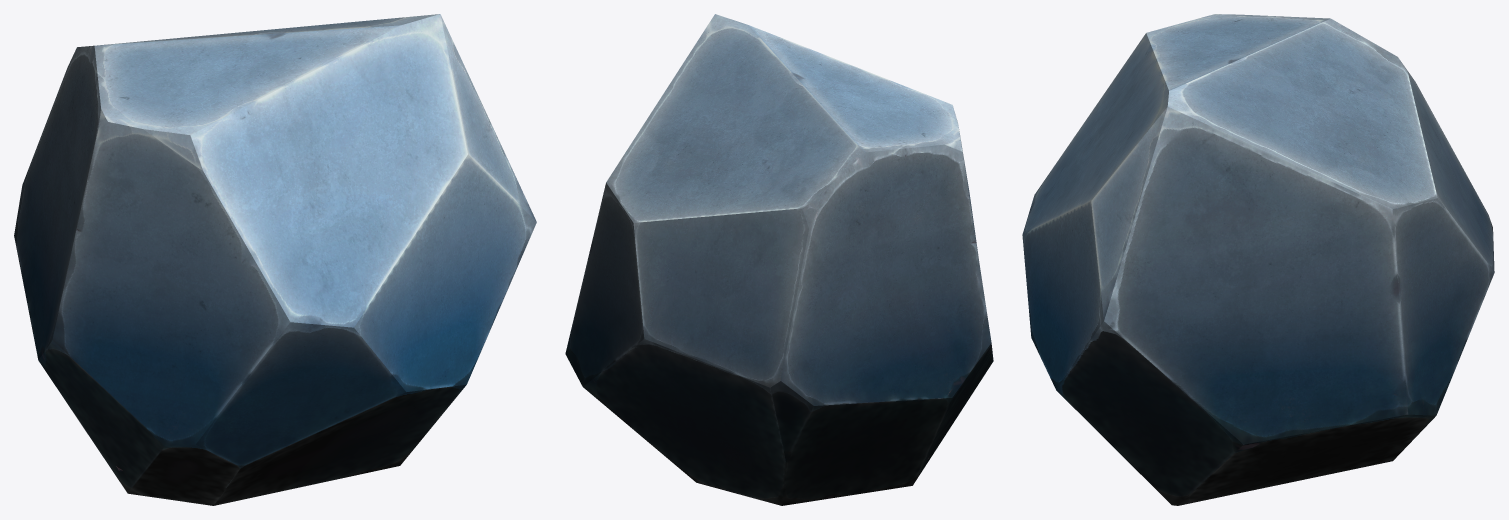
The model's file is berg5.glb.
3 renders of one model, left to right at view 1: azimuth 30°, elevation 25°; view 2: azimuth 150°, elevation 25°; view 3: azimuth 270°, elevation 25°, orthographic. The views are drawn at different scales.
Visible parts, largest first — view 1: M_Rock_04; view 2: M_Rock_04; view 3: M_Rock_04.
Boxes of the visible parts, x1=… form: M_Rock_04: x1=14, y1=14, x2=536, y2=505; M_Rock_04: x1=565, y1=14, x2=993, y2=505; M_Rock_04: x1=1022, y1=14, x2=1494, y2=505.
Bounding box in the file's own units: 1.54 × 1.56 × 1.6.
1 material, 1 textured.
